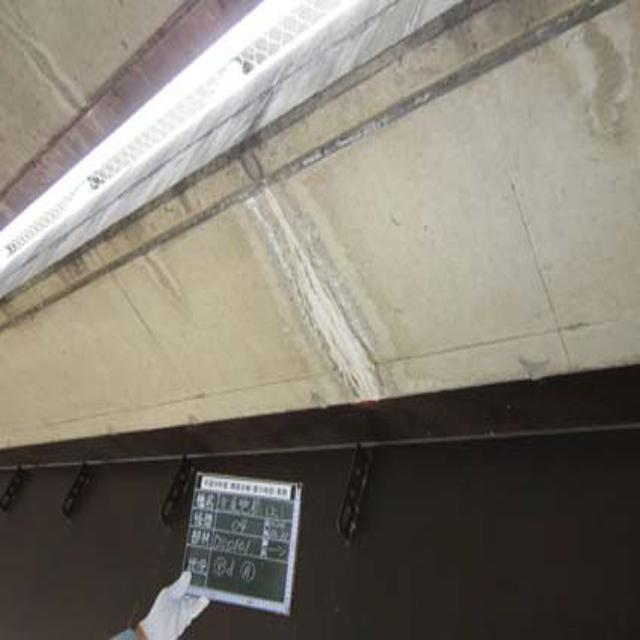freelime: (240, 179, 383, 404)
